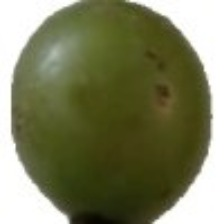grapes: (35, 47, 183, 221)
